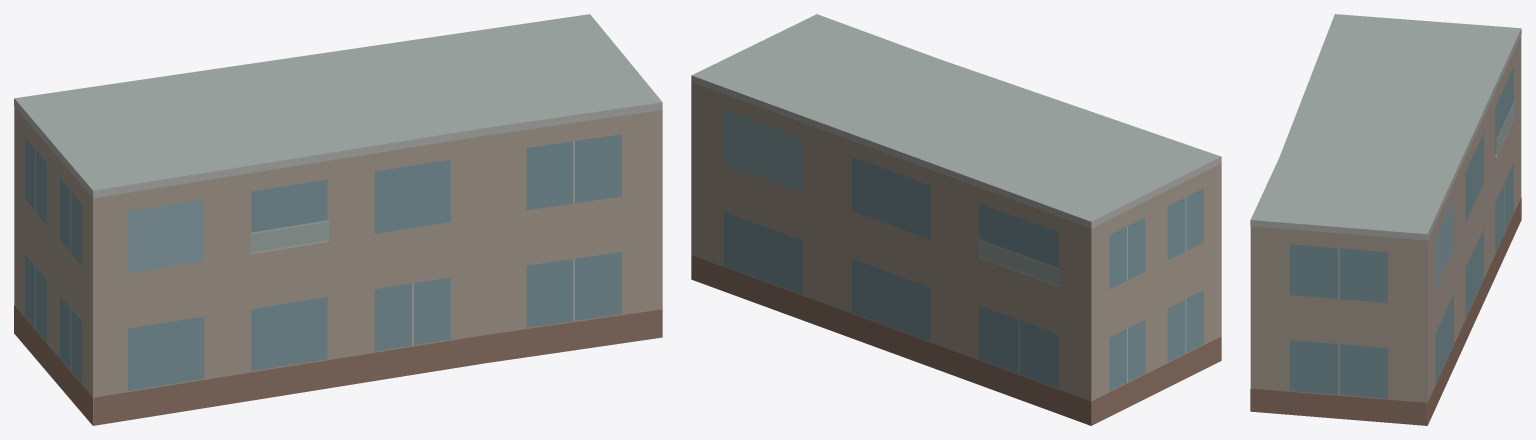
Rendered from survey-upis-32511512.glb.
3 renders of one model, left to right at view 1: azimuth 30°, elevation 25°; view 2: azimuth 150°, elevation 25°; view 3: azimuth 270°, elevation 25°, orthographic. The views are drawn at different scales.
Visible parts, largest first — view 1: survey-upis-32511512.tmp; view 2: survey-upis-32511512.tmp; view 3: survey-upis-32511512.tmp.
Boxes of the visible parts, x1=… form: survey-upis-32511512.tmp: x1=14, y1=14, x2=662, y2=425; survey-upis-32511512.tmp: x1=691, y1=14, x2=1221, y2=425; survey-upis-32511512.tmp: x1=1250, y1=14, x2=1521, y2=425.
Bounding box in the file's own units: 18.5 × 7.5 × 9.62.
